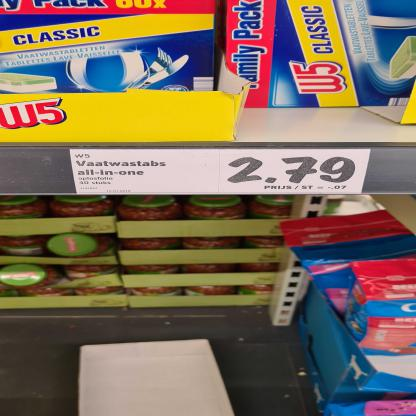prtg: (70, 150, 372, 195)
